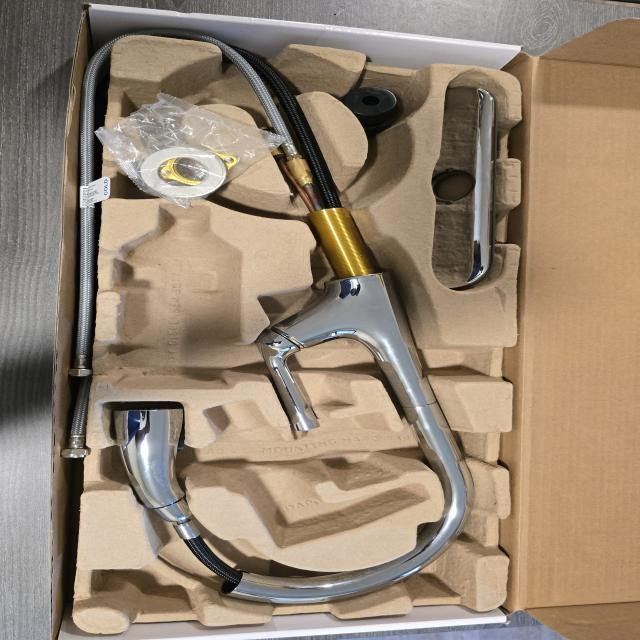1: (115, 42, 473, 605)
2m: (206, 399, 425, 548)
3m: (117, 200, 242, 386)
4: (430, 86, 499, 291)
5: (343, 86, 404, 131)
6: (91, 92, 289, 209)
7m: (119, 68, 219, 137)
